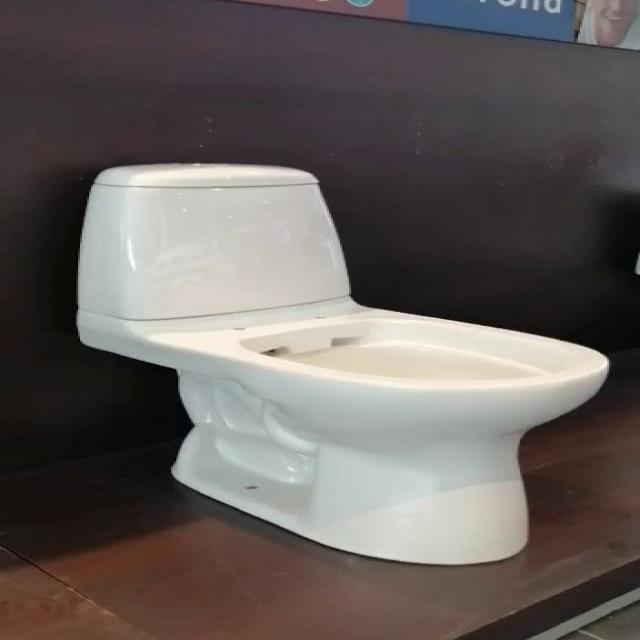toilet: (75, 162, 609, 566)
